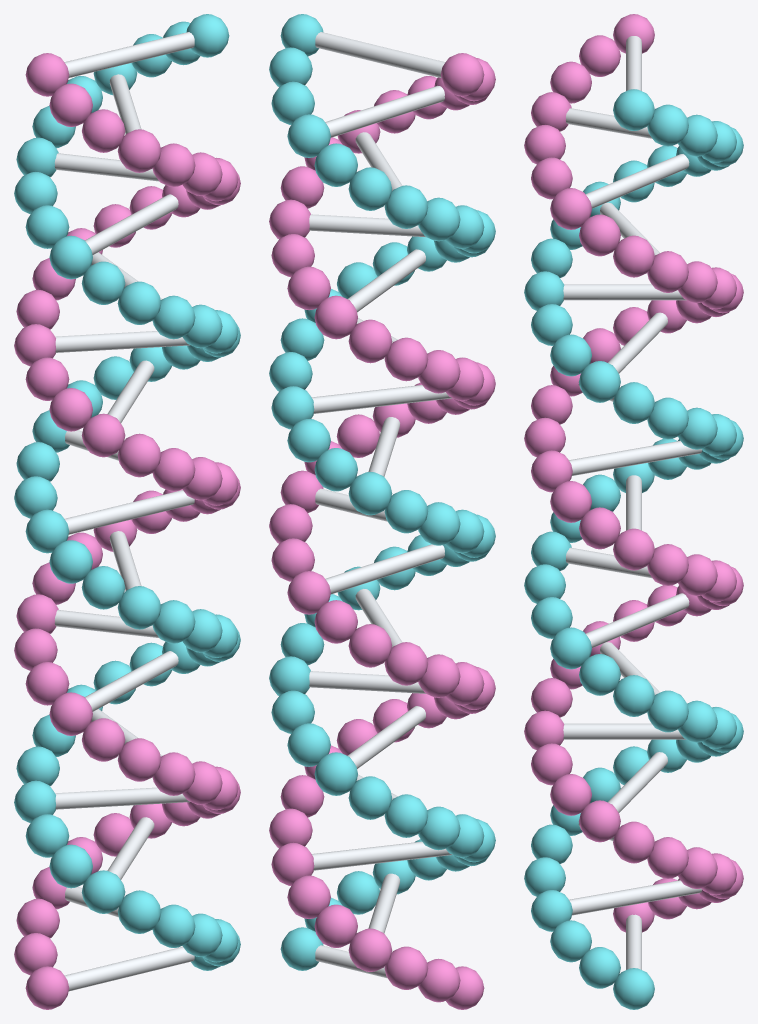
Rendered from dna_helix.glb.
3 views of the same model, side by side, from view 1: azimuth 30°, elevation 25°; view 2: azimuth 150°, elevation 25°; view 3: azimuth 270°, elevation 25° (orthographic). The views are drawn at different scales.
Parts seen in each view (by area): view 1: StrandA, StrandB, Rungs; view 2: StrandB, StrandA, Rungs; view 3: StrandB, StrandA, Rungs.
Part boxes in pixels (left/top/right/bottom): StrandA: left=14, top=14, right=240, bottom=970; StrandB: left=14, top=53, right=240, bottom=1009; Rungs: left=54, top=32, right=194, bottom=991; StrandB: left=269, top=53, right=495, bottom=1009; StrandA: left=269, top=14, right=495, bottom=970; Rungs: left=309, top=32, right=452, bottom=978; StrandB: left=524, top=14, right=743, bottom=932; StrandA: left=524, top=89, right=743, bottom=1009; Rungs: left=563, top=36, right=701, bottom=969.
Bounding box in the file's own units: 1.36 × 6.26 × 1.36.
